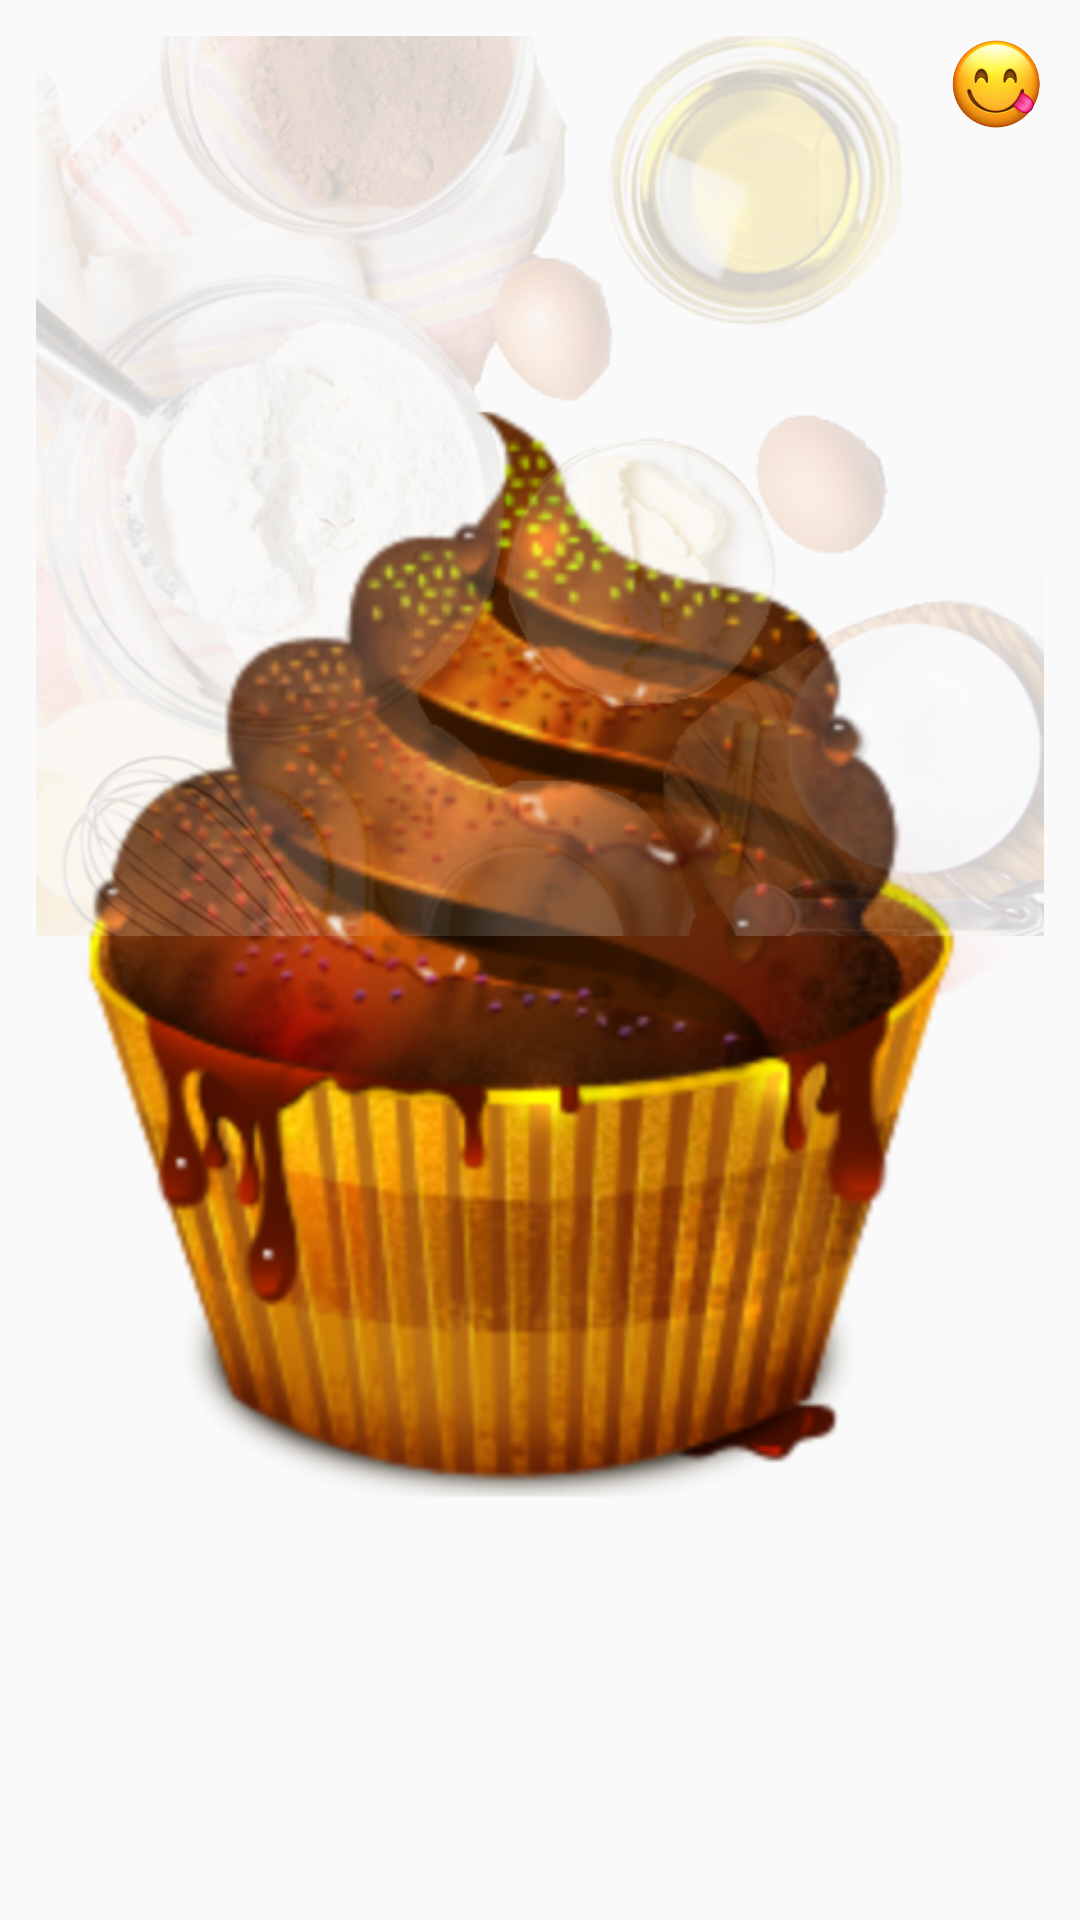

Icons on this 1080px×1920px Android screen, each with the point to tap as point (x, y):
Tasty image looking face: point (996, 84)
